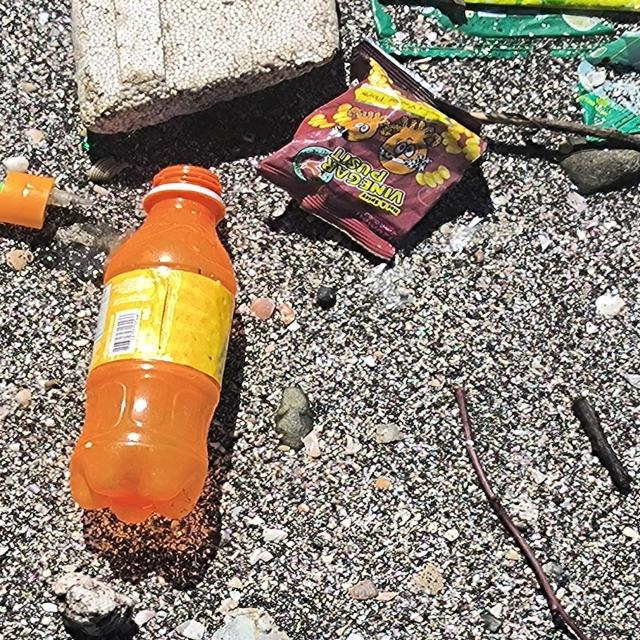plastic_waste: (68, 165, 239, 527), (251, 40, 485, 264)
styrofoam_waste: (70, 1, 342, 136)
